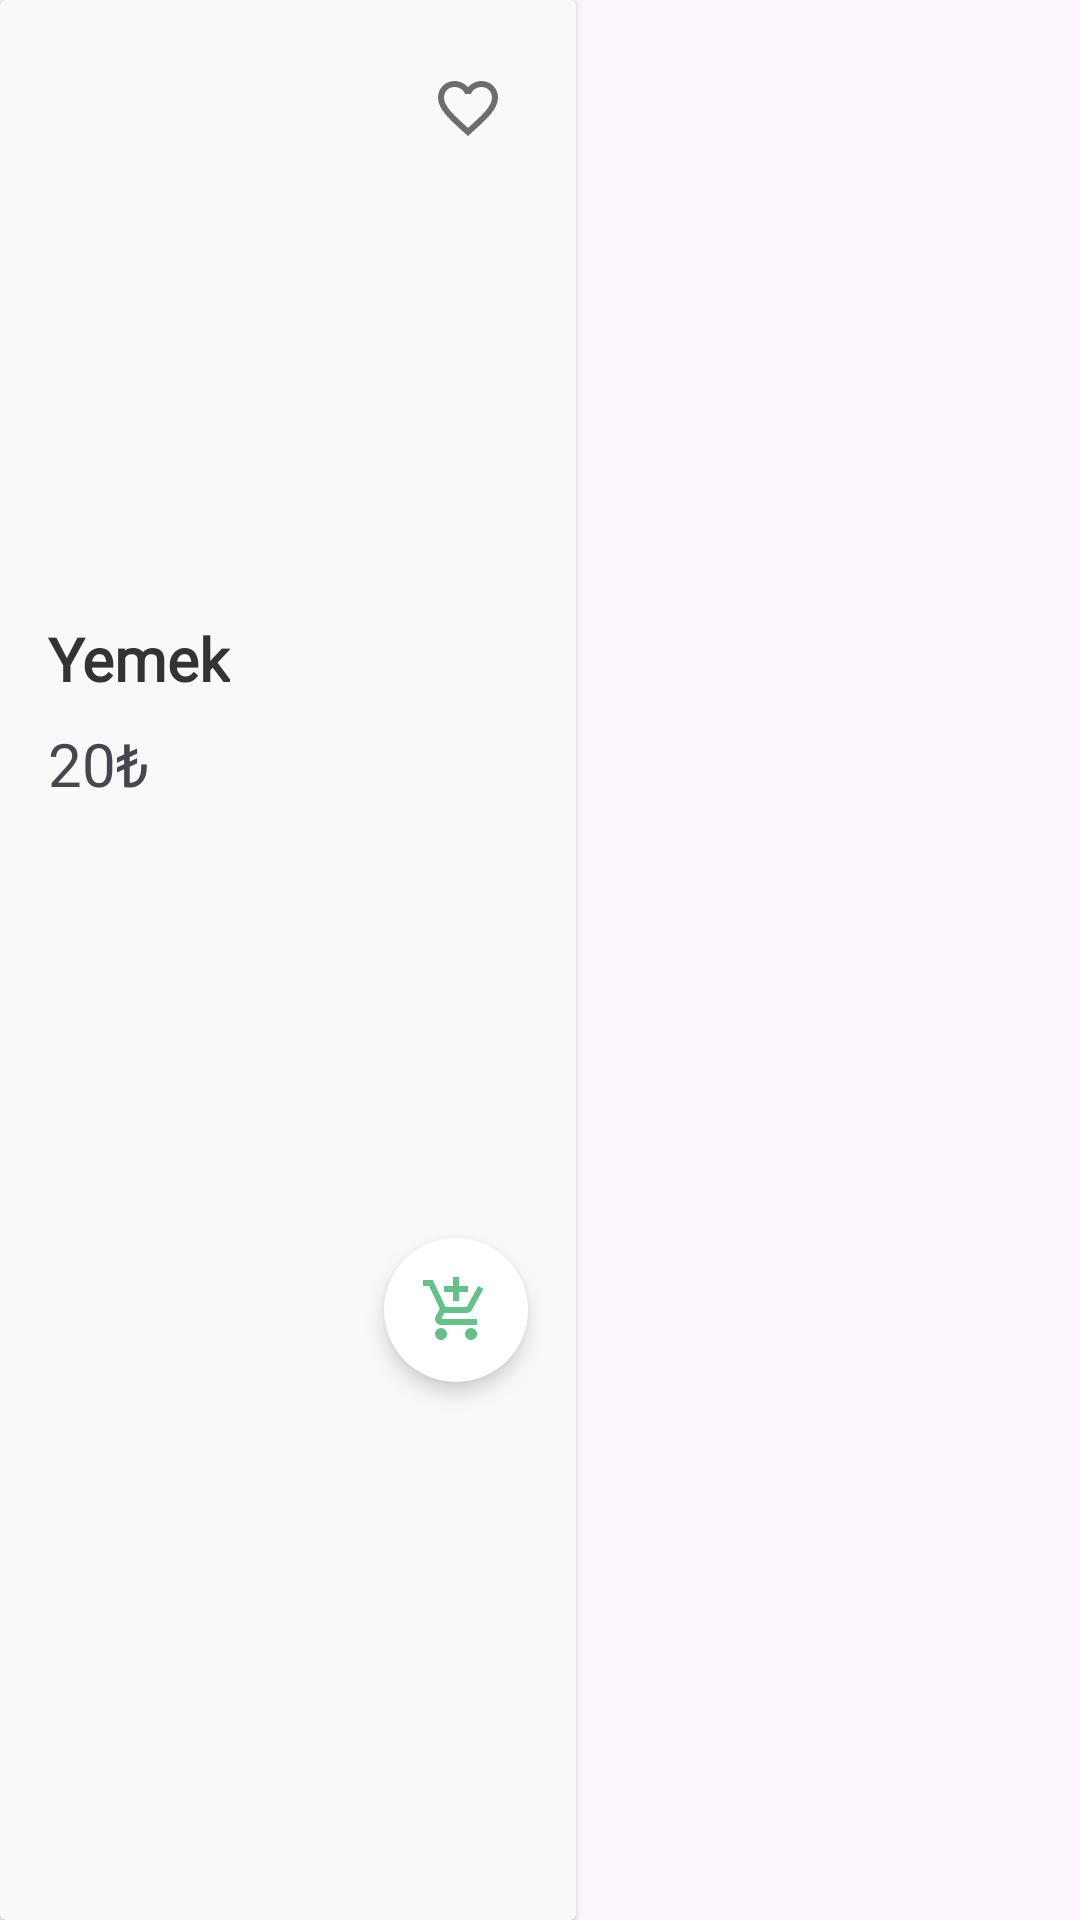

Icon click points for this 1080px x 1920px phone screenshot, format point (x, y):
favorite border: point (468, 108)
Sepet: point (474, 1308)
